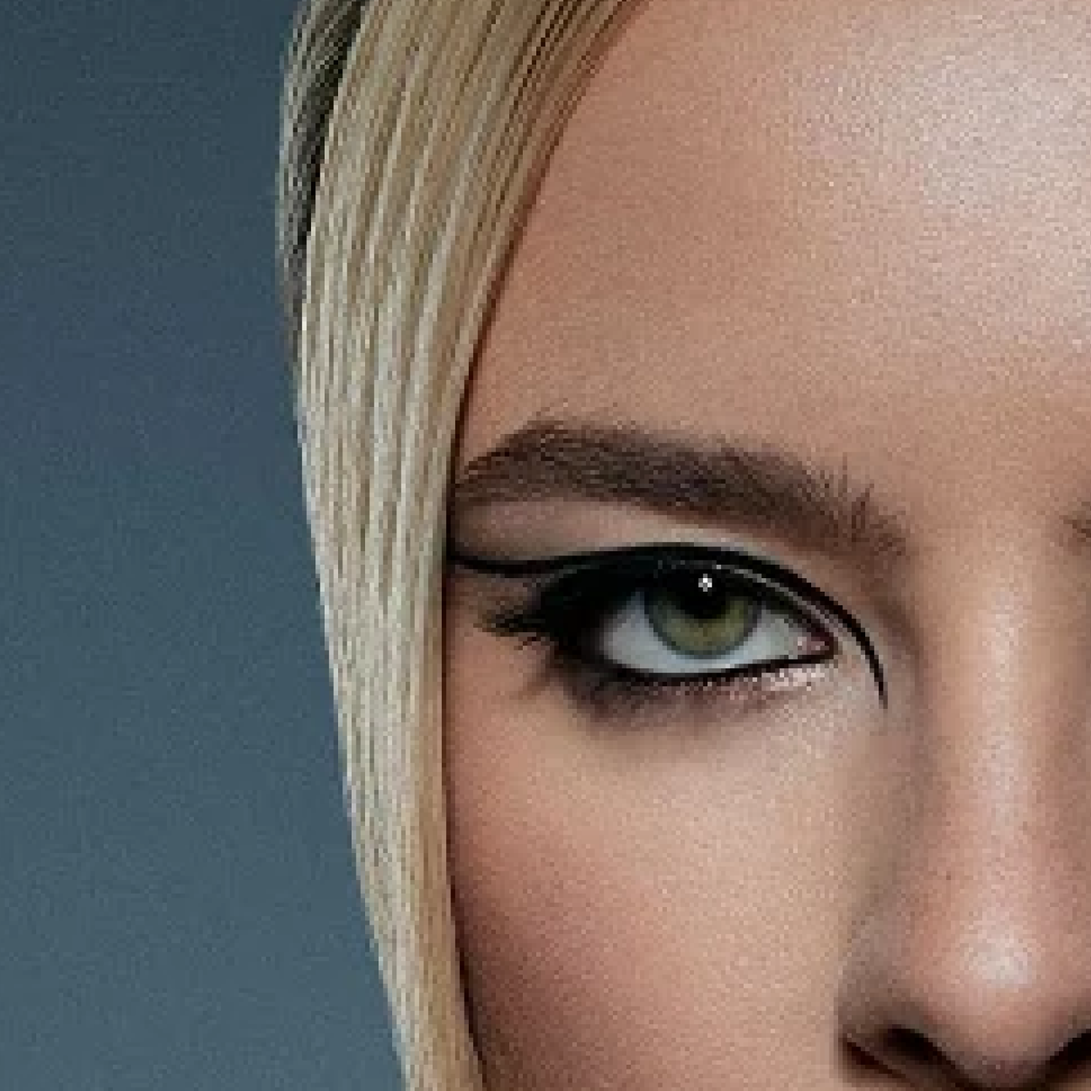iris: (645, 565, 761, 656)
pupil: (672, 567, 734, 620)
sclera: (601, 592, 808, 670)
